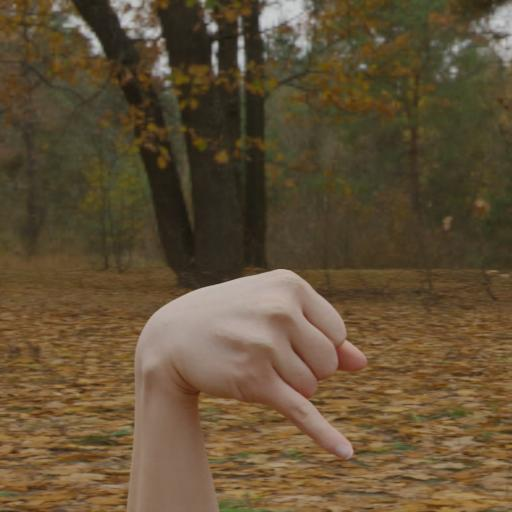J: (105, 218, 428, 512)
